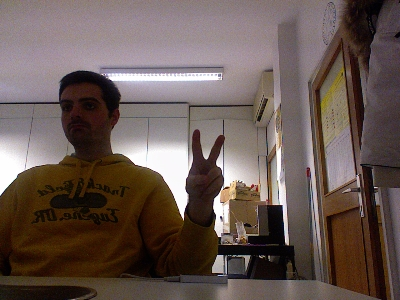剪刀: (184, 129, 224, 201)
